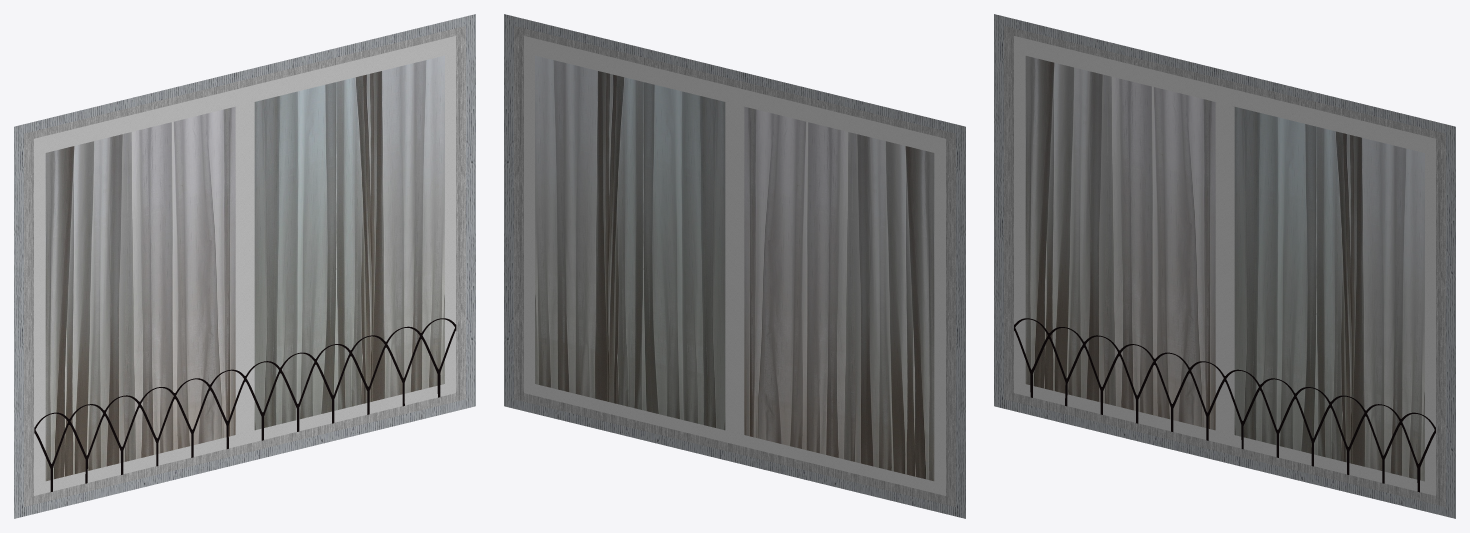
Rendered from Kuechenfenster.LOD.glb.
3 views of the same model, side by side, from view 1: azimuth 30°, elevation 25°; view 2: azimuth 150°, elevation 25°; view 3: azimuth 330°, elevation 25° (orthographic).
Parts seen in each view (by area): view 1: Cube, Plane; view 2: Cube; view 3: Cube, Plane.
Boxes of the visible parts, x1,y1,x2,y2 form: Cube: [14, 14, 475, 518]; Plane: [34, 318, 456, 491]; Cube: [504, 14, 965, 518]; Cube: [994, 14, 1455, 518]; Plane: [1014, 318, 1435, 492].
Size of the model in its own units: 3.55 by 2.88 by 0.00197.
Materials: 5 (5 with a texture image).
